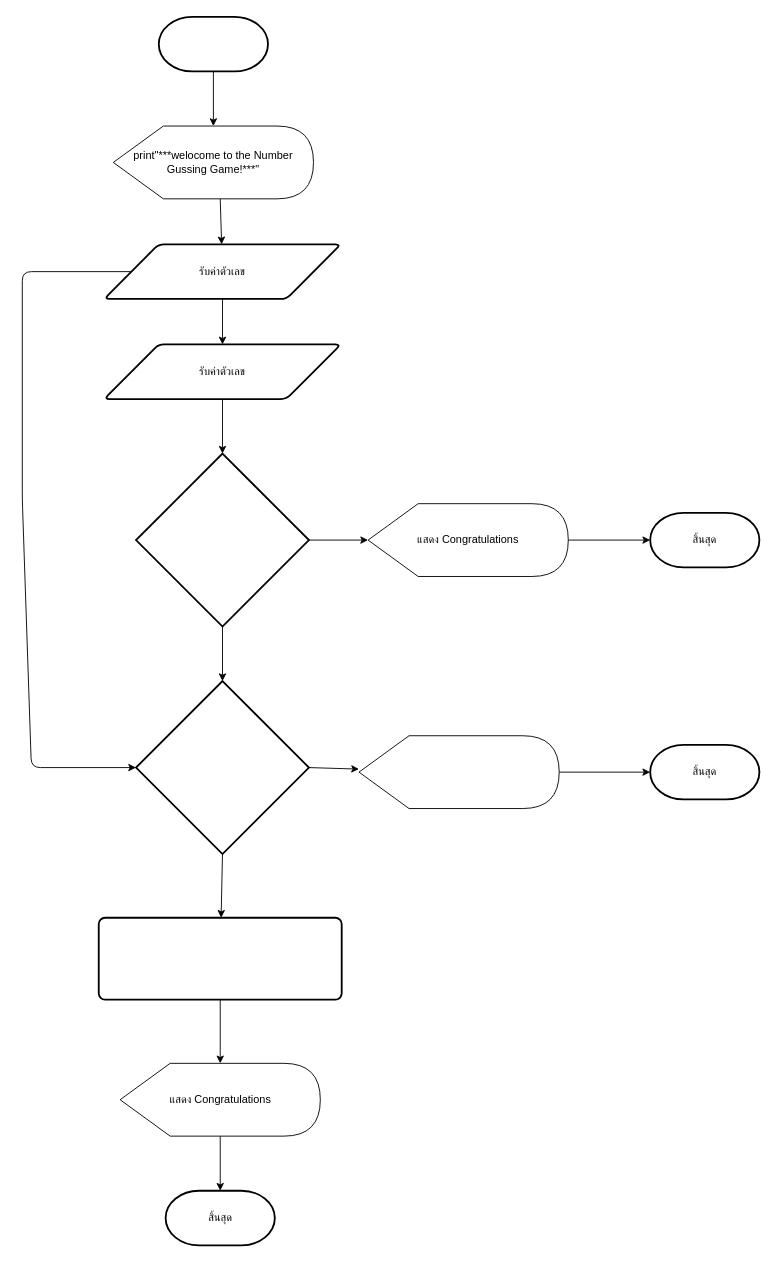
Image size: 776x1261. Some labels were removed from this diagram. The shapes that lost their labels are listed below. From the top down, each one's box as (x1, y1, x2, y2) in pixels, then its label:
(157, 15, 268, 72): เริ่มต้น
(135, 452, 309, 627): ถ้าใส่ตัวเลขถูกต้อง
(135, 680, 309, 854): ถ้า
